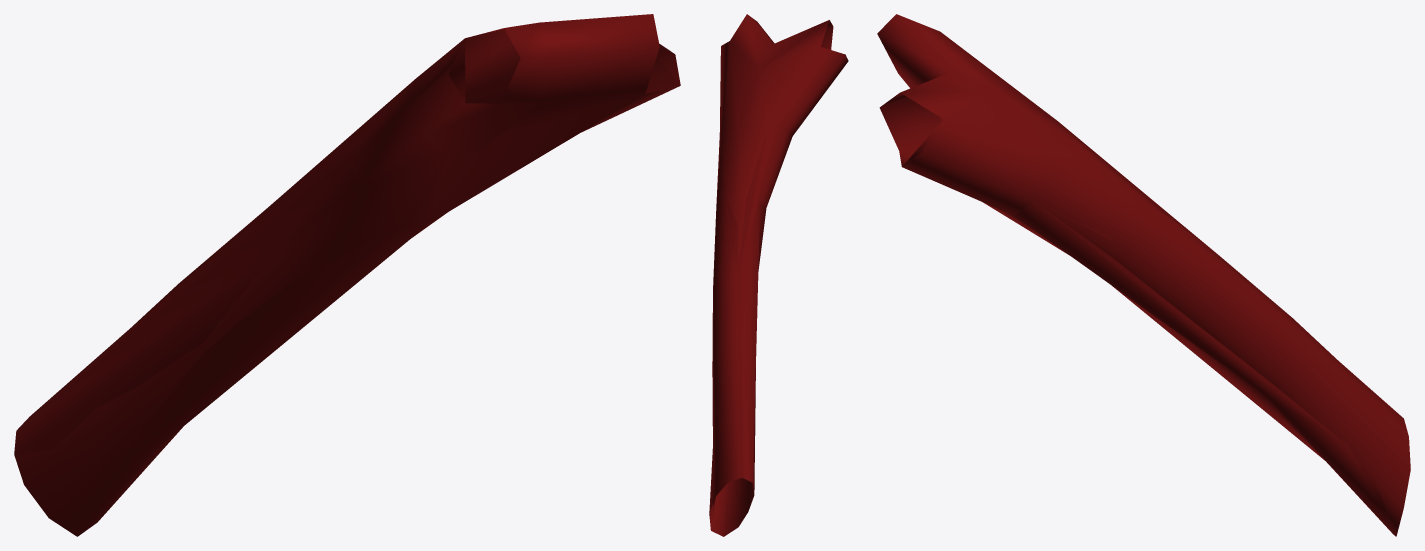
The model's file is truncus bicaroticus.fbx.
3 renders of one model, left to right at view 1: azimuth 30°, elevation 25°; view 2: azimuth 150°, elevation 25°; view 3: azimuth 270°, elevation 25°, orthographic. The views are drawn at different scales.
Parts seen in each view (by area): view 1: truncus bicaroticus low, truncus bicaroticus; view 2: truncus bicaroticus, truncus bicaroticus low; view 3: truncus bicaroticus, truncus bicaroticus low.
Part boxes in pixels (x1=…): truncus bicaroticus low: x1=14, y1=24, x2=680, y2=520; truncus bicaroticus: x1=14, y1=14, x2=680, y2=536; truncus bicaroticus: x1=709, y1=14, x2=848, y2=536; truncus bicaroticus low: x1=711, y1=25, x2=832, y2=536; truncus bicaroticus: x1=877, y1=14, x2=1410, y2=536; truncus bicaroticus low: x1=878, y1=14, x2=1408, y2=535.
Bounding box in the file's own units: 2.61 × 4.89 × 4.19.
